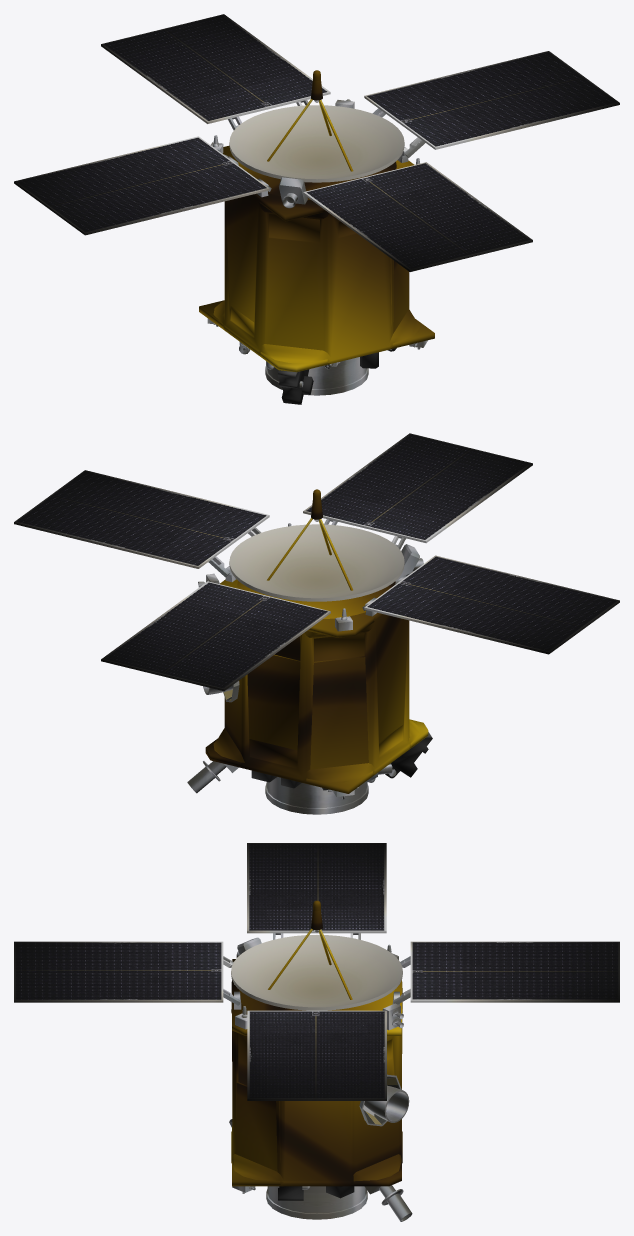
File: satellite.gltf
The picture shows the model from 3 angles, top to bottom: view 1: azimuth 30°, elevation 25°; view 2: azimuth 150°, elevation 25°; view 3: azimuth 270°, elevation 25°; orthographic projection.
Parts seen in each view (by area): view 1: shiny_panels, foil_gold, tex_01, foil_silver; view 2: shiny_panels, foil_gold, tex_01, foil_silver; view 3: shiny_panels, tex_01, foil_gold, foil_silver.
Part boxes in pixels (box(x1,y1,x2,y2)): shiny_panels: box(16, 15, 617, 269); foil_gold: box(199, 70, 434, 372); tex_01: box(14, 14, 619, 395); foil_silver: box(277, 348, 396, 404); shiny_panels: box(16, 434, 617, 688); foil_gold: box(205, 489, 428, 793); tex_01: box(14, 433, 619, 814); foil_silver: box(251, 732, 432, 790); shiny_panels: box(15, 843, 618, 1098); tex_01: box(14, 843, 619, 1221); foil_gold: box(231, 900, 402, 1186); foil_silver: box(229, 1119, 354, 1200).
Bounding box in the file's own units: 5.29 × 2.86 × 5.29.
Materials: 4 (4 with a texture image).
